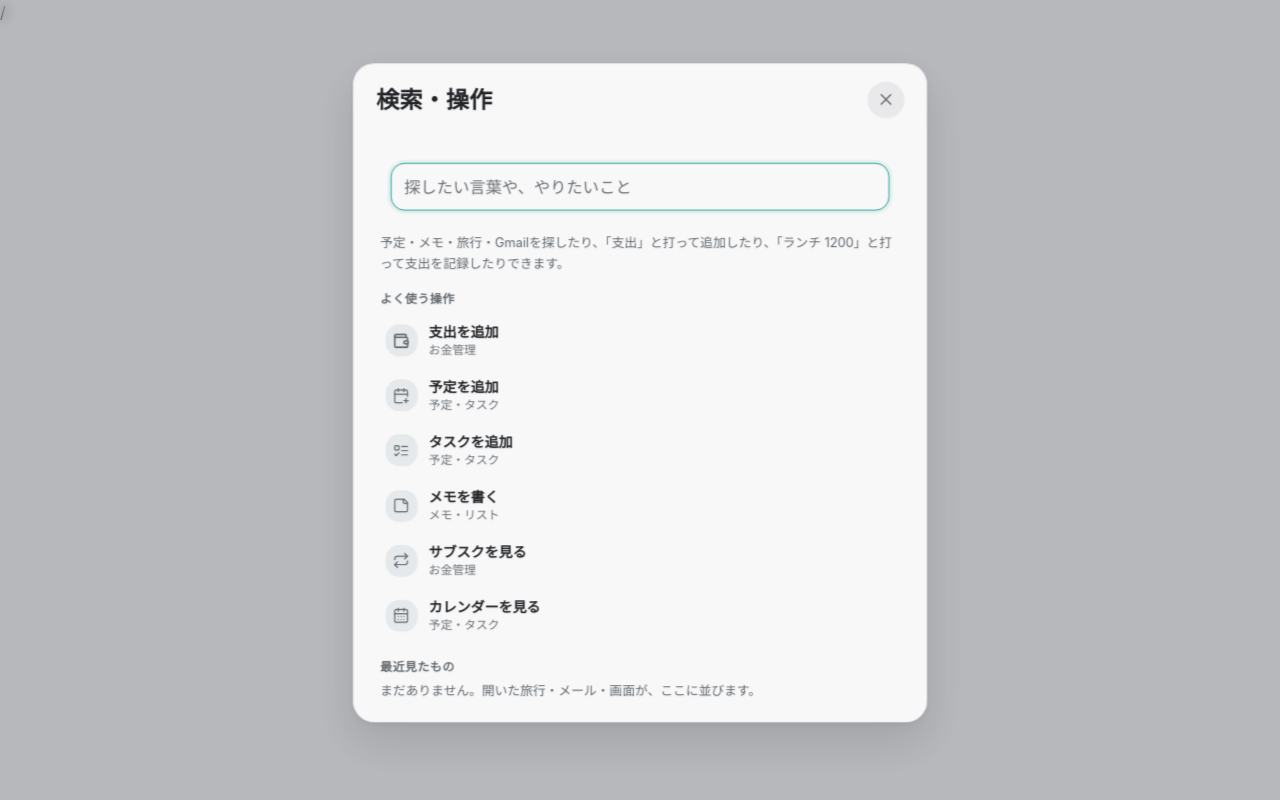
Scenario: まとめて検索から、支出を記録する(「ランチ 1200」) › 店と金額を打つと、先頭に「記録」の行が出る(カテゴリ・今日・支払い方法つき)
The width and height of the screenshot is (1280, 800).
Type "ランチ 1200" into the dropdown named "まとめて検索" at (640, 186), box [390,162,890,210]
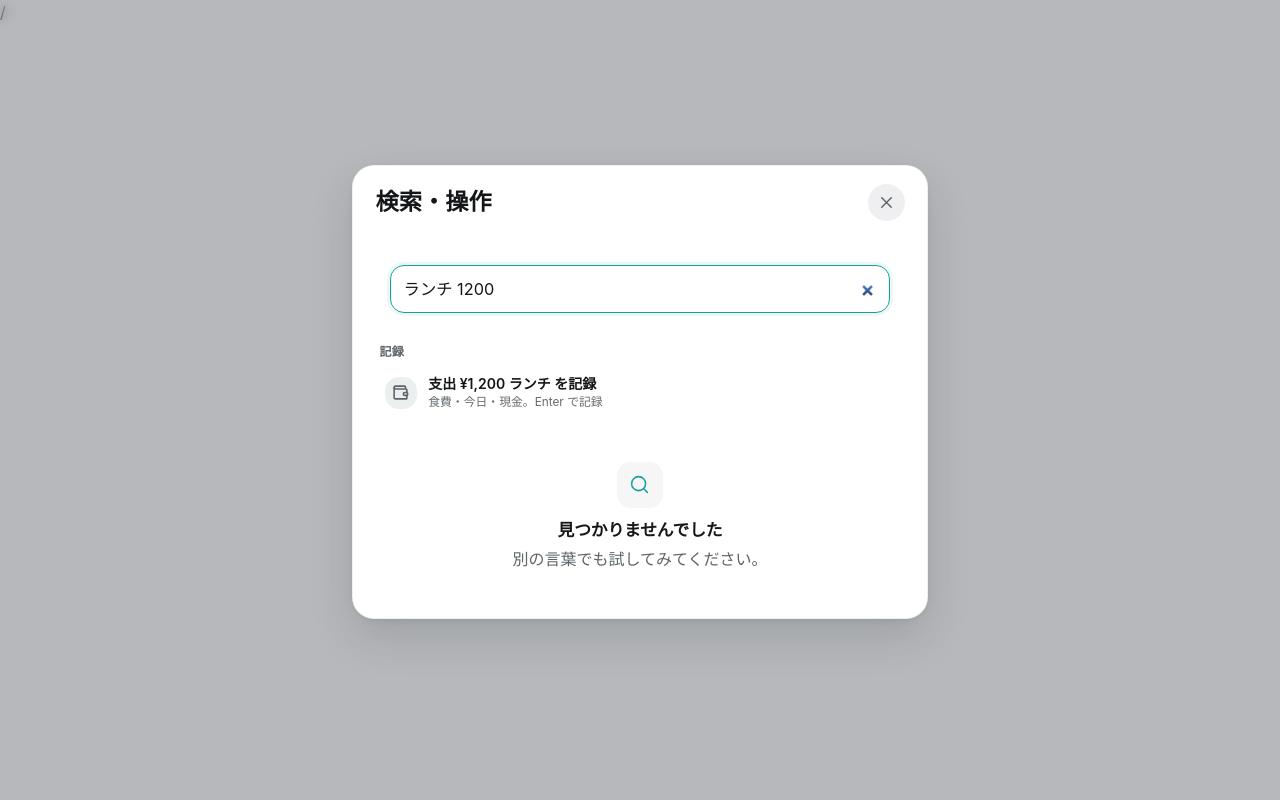
Check: the option "支出 ¥1,200 ランチ を記録 食費・今日・現金。Enter で記録" is shown, box [385,376,603,410]
